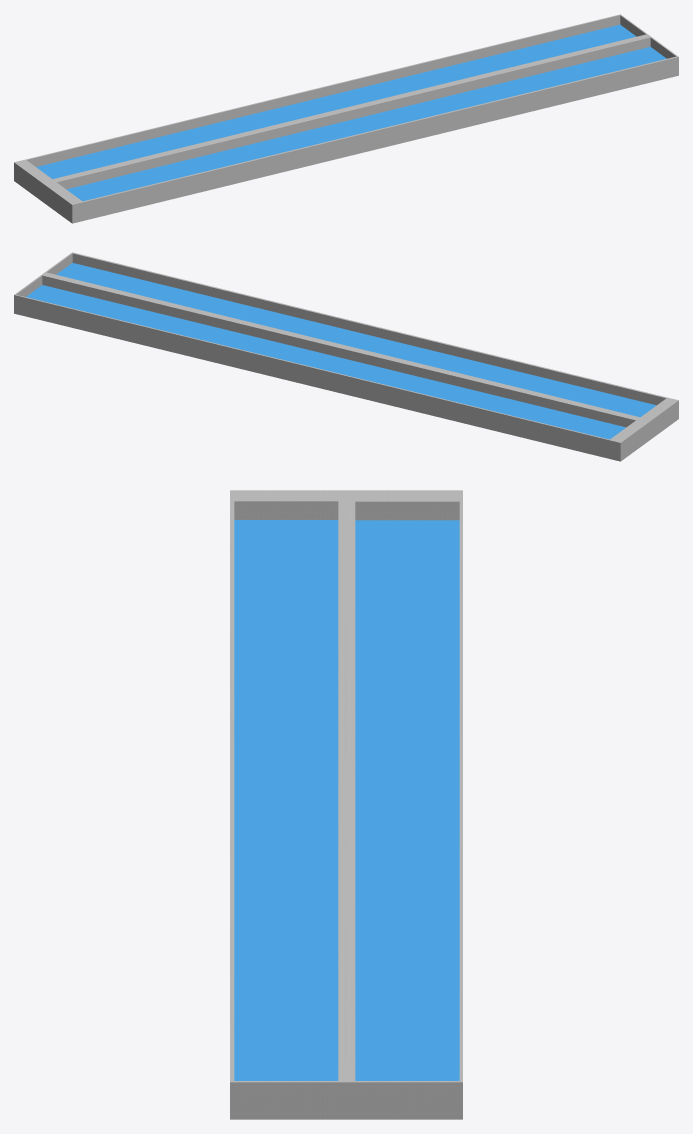
Rendered from C1C2_Sedimentation_Tanks.glb.
3 renders of one model, top to bottom at view 1: azimuth 30°, elevation 25°; view 2: azimuth 150°, elevation 25°; view 3: azimuth 270°, elevation 25°, orthographic. The views are drawn at different scales.
Visible parts, largest first — view 1: Floor1; view 2: Floor1; view 3: Floor1.
Boxes of the visible parts, x1,y1,x2,y2 form: Floor1: (14, 14, 678, 223); Floor1: (14, 252, 678, 461); Floor1: (230, 490, 462, 1119).
Bounding box in the file's own units: 136 × 4 × 22.61.
2 materials, 2 textured.
